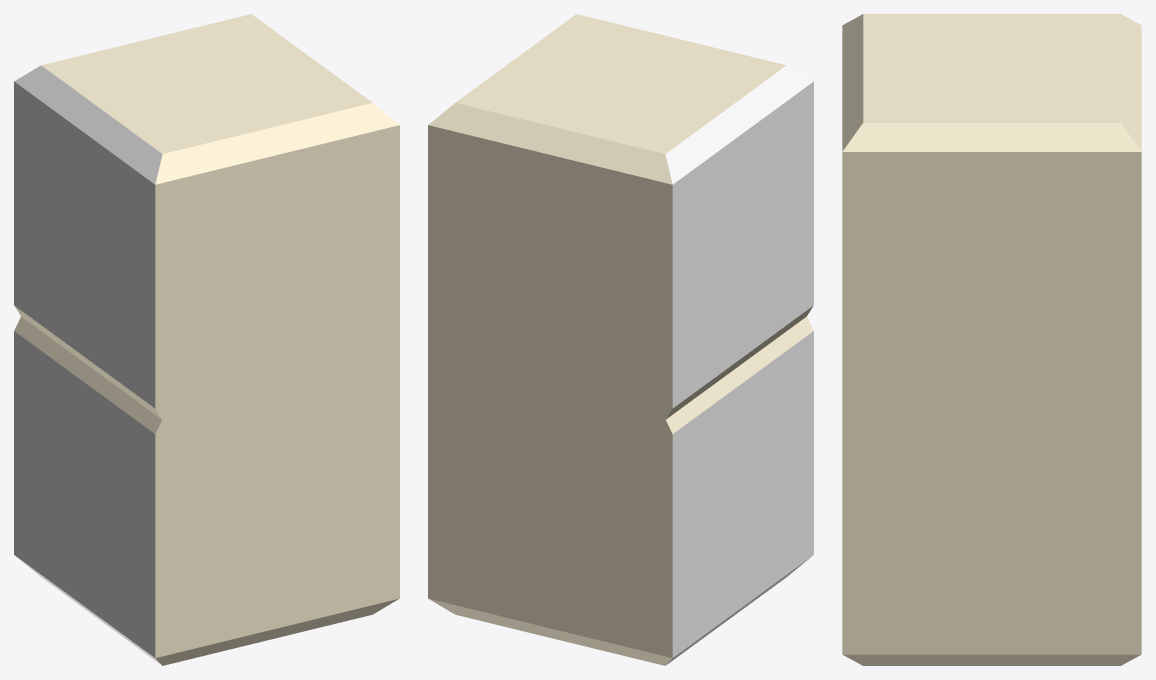
The model's file is Fridge.fbx.
3 views of the same model, side by side, from view 1: azimuth 30°, elevation 25°; view 2: azimuth 150°, elevation 25°; view 3: azimuth 270°, elevation 25° (orthographic). The views are drawn at different scales.
Parts seen in each view (by area): view 1: Cube; view 2: Cube; view 3: Cube.
Boxes of the visible parts, left/top/right/bottom form: Cube: left=14, top=14, right=399, bottom=665; Cube: left=428, top=14, right=813, bottom=665; Cube: left=842, top=14, right=1141, bottom=665.
Size of the model in its own units: 200 by 400 by 200.
